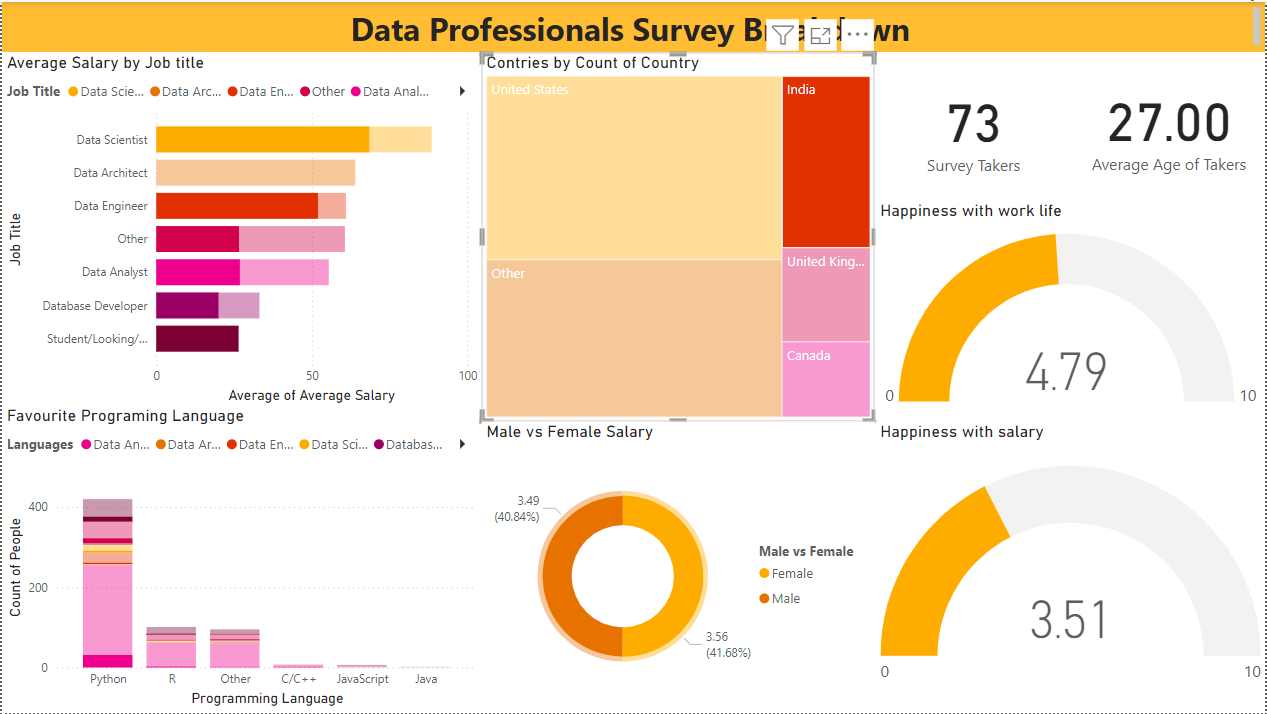

The dashboard page shown, as its layout file describes it:
{"tool":"powerbi","page":{"name":"Page 1","canvas":[1280,720],"ordinal":0},"visuals":[{"type":"textbox","box":[0,0,1280.1,50.7],"z":0},{"type":"card","fields":{"Values":["CountNonNull(Data Professional Survey.Unique ID)"]},"box":[884.8,51.8,198.7,150.3],"z":1},{"type":"card","fields":{"Values":["Avg(Data Professional Survey.Q10 - Current Age)"]},"box":[1083.5,51.8,197,148.6],"z":2},{"type":"barChart","title":"Average Salary by Job title","fields":{"Category":["Data Professional Survey.Q1 - Which Title Best Fits your Current Role?.1"],"Y":["Avg(Data Professional Survey.Average Salary)"],"Series":["Data Professional Survey.Q1 - Which Title Best Fits your Current Role?.1"]},"box":[0,50.7,486.1,360.2],"z":3},{"type":"columnChart","title":"Favourite Programing Language","fields":{"Category":["Data Professional Survey.Q5 - Favorite Programming Language.1"],"Y":["CountNonNull(Data Professional Survey.Unique ID)"],"Series":["Data Professional Survey.Q1 - Which Title Best Fits your Current Role?.1"]},"box":[0,409.2,486.1,309.5],"z":4},{"type":"treemap","fields":{"Group":["Data Professional Survey.Q11 - Which Country do you live in?.1"],"Values":["CountNonNull(Data Professional Survey.Q11 - Which Country do you live in?.1)"]},"box":[486.1,50.7,398.7,374.2],"z":5},{"type":"gauge","title":"Happiness with work life","fields":{"MinValue":["Min(Data Professional Survey.Q6 - How Happy are you in your Current Position with the following? (Work/Life Balance))"],"Y":["Avg(Data Professional Survey.Q6 - How Happy are you in your Current Position with the following? (Work/Life Balance))"],"MaxValue":["Max(Data Professional Survey.Q6 - How Happy are you in your Current Position with the following? (Work/Life Balance))1"]},"box":[884.8,202,395.7,222],"z":6},{"type":"gauge","title":"Happiness with salary","fields":{"Y":["Avg(Data Professional Survey.Q6 - How Happy are you in your Current Position with the following? (Salary))"],"MinValue":["Min(Data Professional Survey.Q6 - How Happy are you in your Current Position with the following? (Salary))"],"MaxValue":["Max(Data Professional Survey.Q6 - How Happy are you in your Current Position with the following? (Salary))"]},"box":[884.8,424.9,395.2,293.8],"z":7},{"type":"donutChart","title":"Male vs Female Salary","fields":{"Category":["Data Professional Survey.Q9 - Male/Female?"],"Y":["Avg(Data Professional Survey.Q6 - How Happy are you in your Current Position with the following? (Salary))"]},"box":[486.1,424.9,398.7,293.8],"z":8}]}

Visuals, with their boxes in screenshot pixels (x1, y1, x2, y2):
textbox: box=[7, 0, 1256, 49]
card - CountNonNull(Data Professional Survey.Unique ID): box=[870, 51, 1064, 197]
card - Avg(Data Professional Survey.Q10 - Current Age): box=[1064, 51, 1257, 196]
"Average Salary by Job title" barChart: box=[7, 49, 481, 401]
"Favourite Programing Language" columnChart: box=[7, 399, 481, 702]
treemap - Data Professional Survey.Q11 - Which Country do you live in?.1 x CountNonNull(Data Professional Survey.Q11 - Which Country do you live in?.1): box=[481, 49, 870, 415]
"Happiness with work life" gauge: box=[870, 197, 1257, 414]
"Happiness with salary" gauge: box=[870, 415, 1256, 702]
"Male vs Female Salary" donutChart: box=[481, 415, 870, 702]
